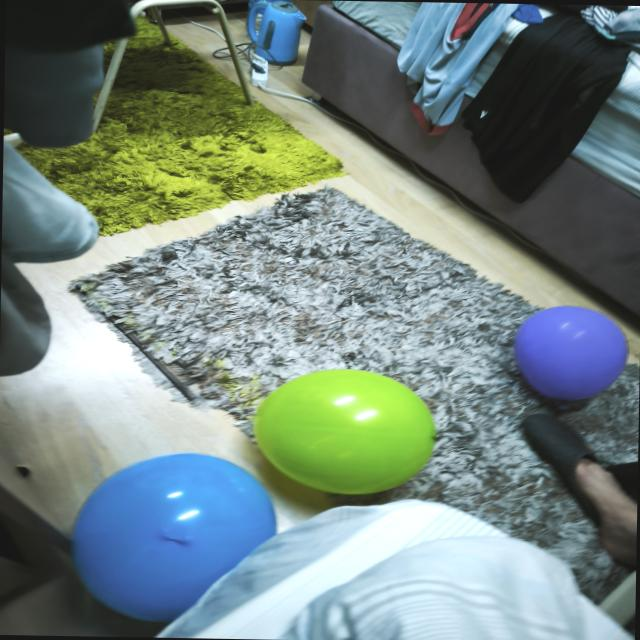balloon: (72, 453, 276, 621), (253, 369, 435, 493), (513, 306, 627, 400)
